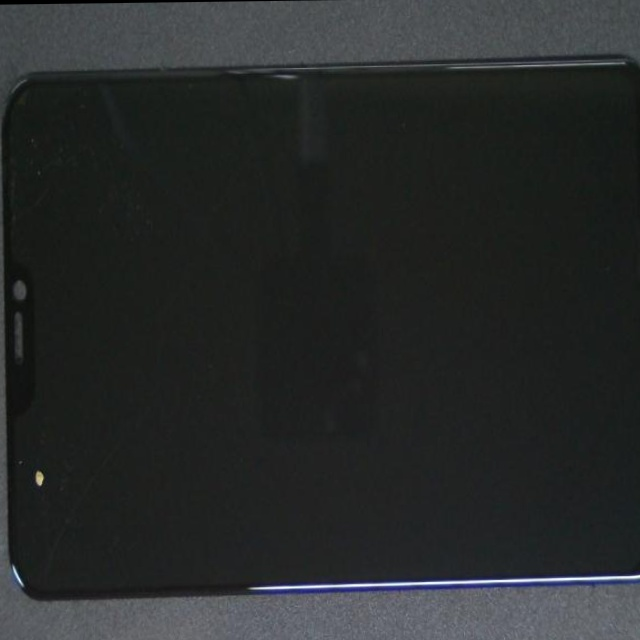stain: (2, 174, 66, 640)
